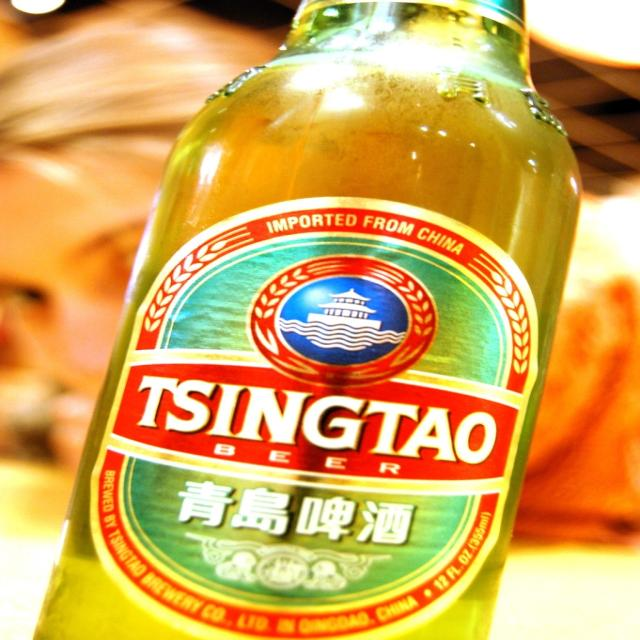tsingtao: (87, 196, 543, 640)
